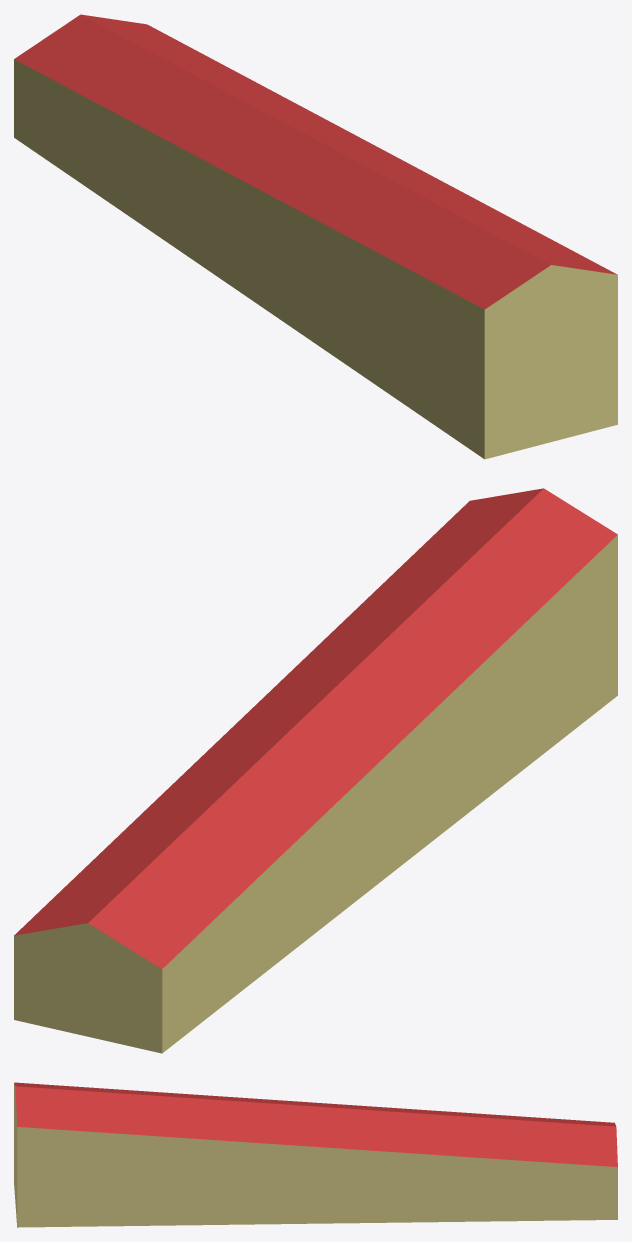
3 renders of one model, top to bottom at view 1: azimuth 30°, elevation 25°; view 2: azimuth 150°, elevation 25°; view 3: azimuth 270°, elevation 25°, orthographic. The views are drawn at different scales.
Bounding box in the file's own units: 12.28 × 60.2 × 13.08.
